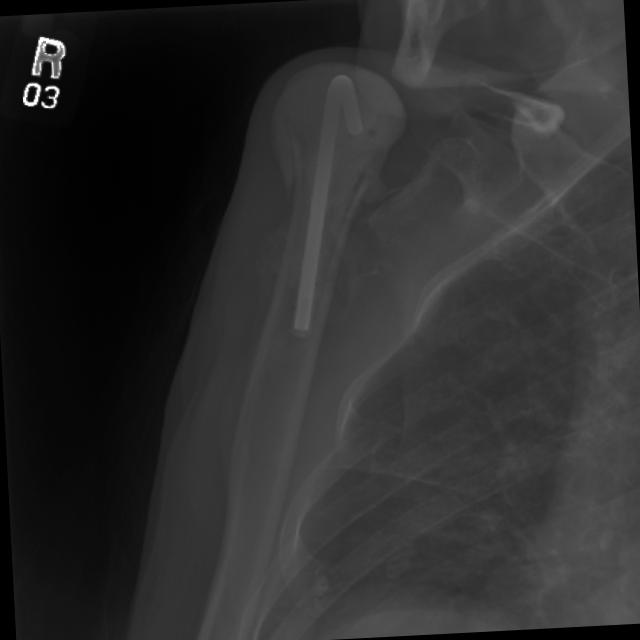shoulder fracture: (250, 129, 338, 224)
